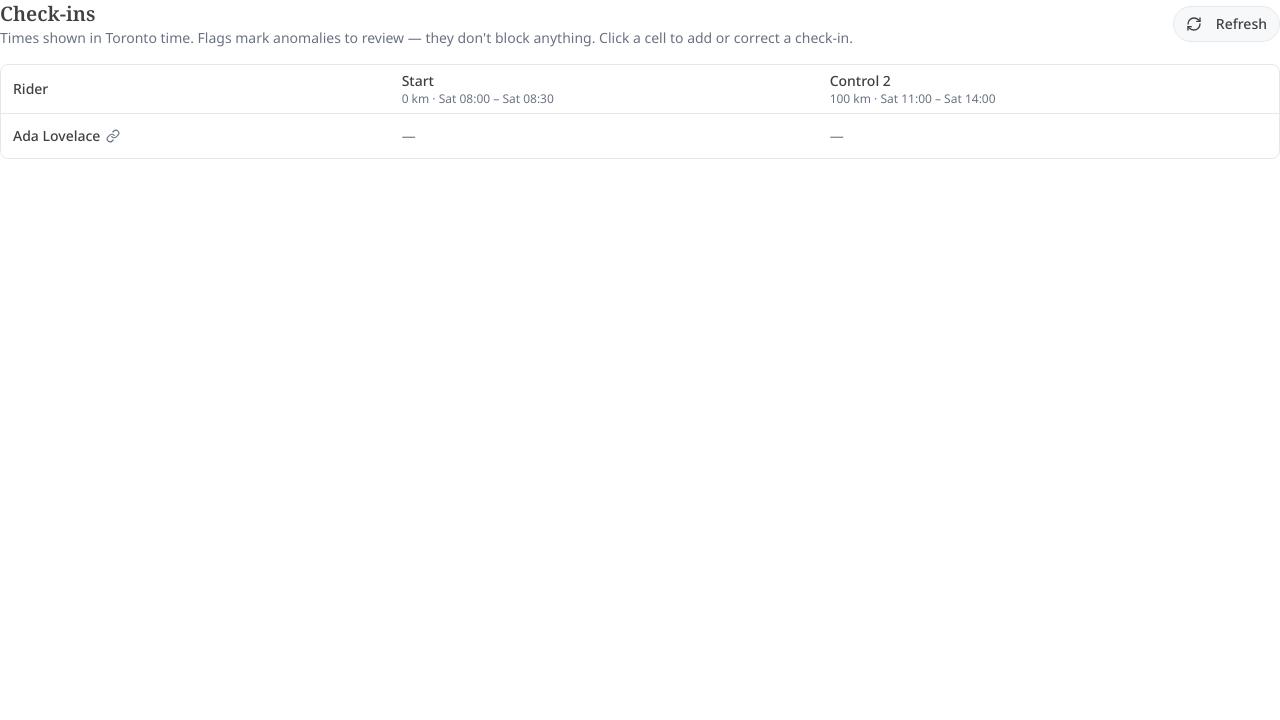
Test case: EventCheckinsGrid correction dialog › opens the dialog naming the rider and control when a cell is clicked
Click the 1st text "—".
click(409, 135)  # box [402, 126, 416, 144]
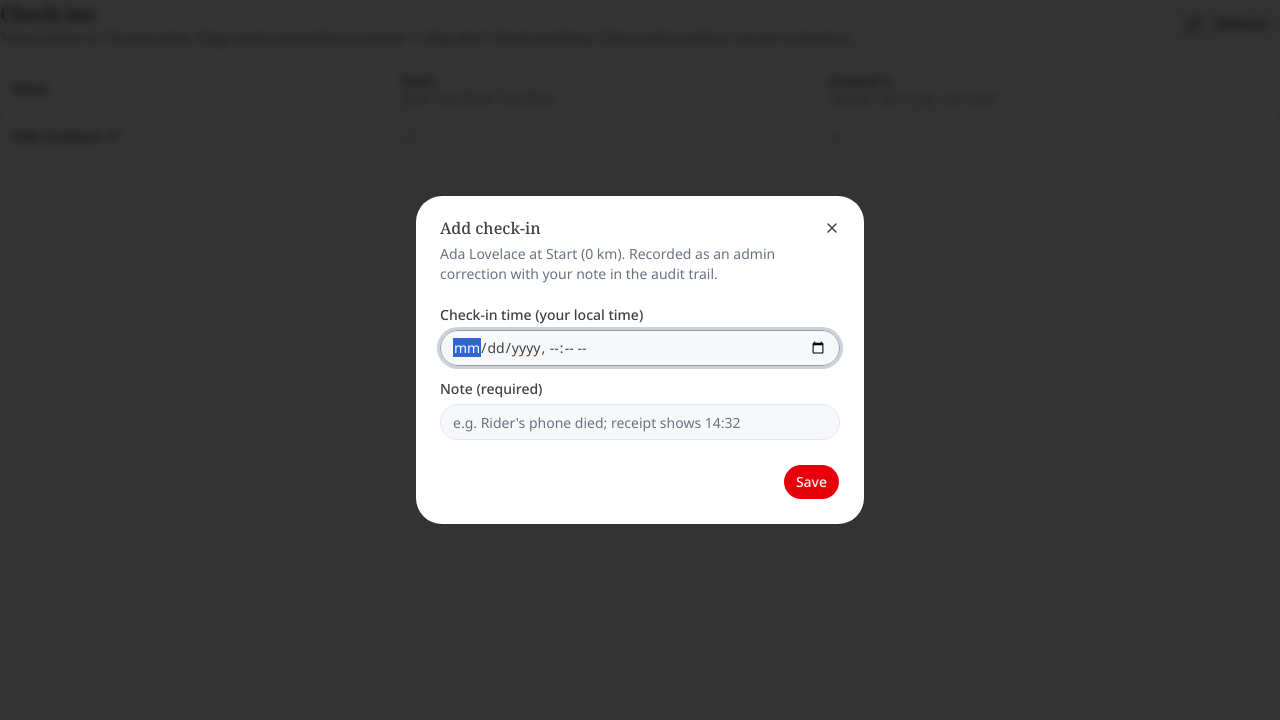
Result: the dialog is shown at [416, 196, 864, 524]
Result: the text "Ada Lovelace at Start" is shown at [440, 244, 775, 283]
Result: the heading "Add check-in" is shown at [440, 217, 541, 239]
